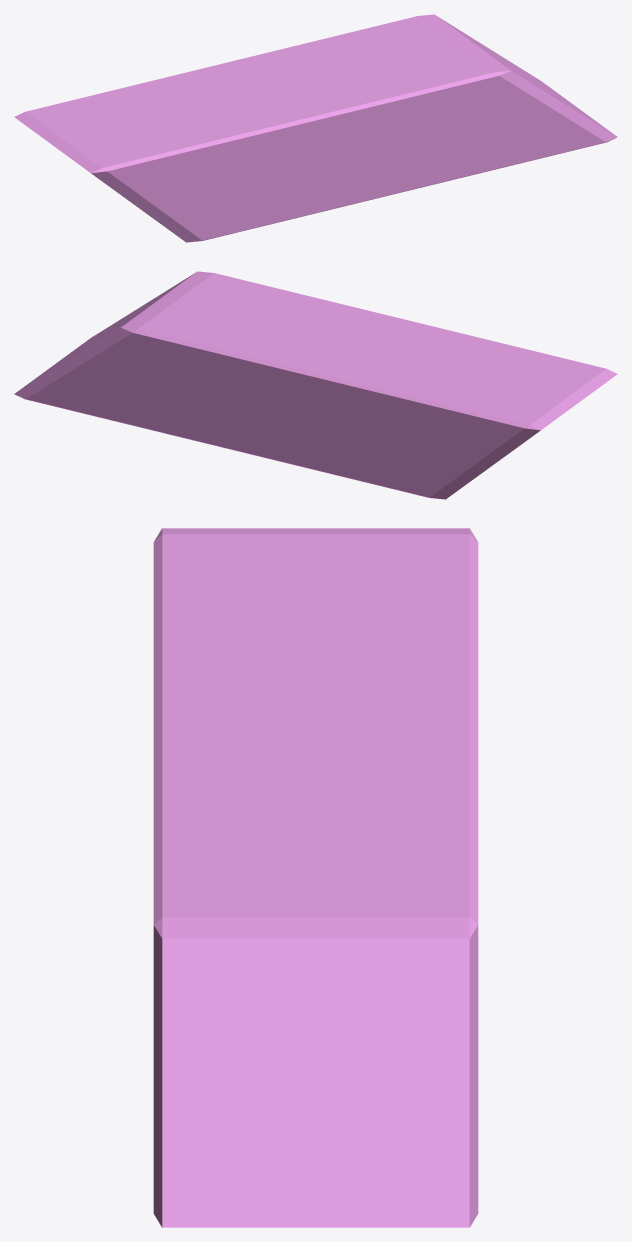
Rendered from Eraser.fbx.
3 renders of one model, top to bottom at view 1: azimuth 30°, elevation 25°; view 2: azimuth 150°, elevation 25°; view 3: azimuth 270°, elevation 25°, orthographic. The views are drawn at different scales.
Parts seen in each view (by area): view 1: Eraser; view 2: Eraser; view 3: Eraser.
Part boxes in pixels (bbox=[...]): Eraser: bbox=[14, 14, 617, 242]; Eraser: bbox=[14, 271, 617, 499]; Eraser: bbox=[153, 528, 478, 1227].
Bounding box in the file's own units: 165 × 29.14 × 43.95.
